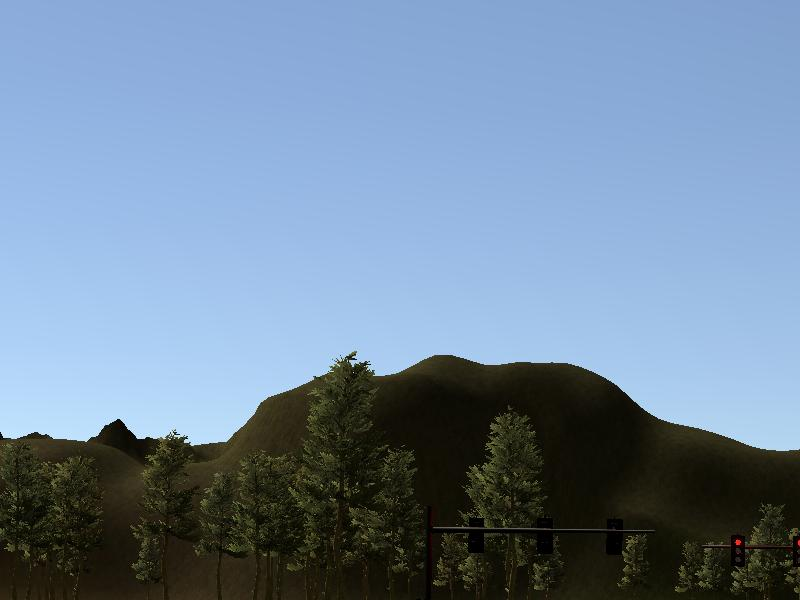Red: (730, 535, 747, 567), (792, 535, 800, 567)
